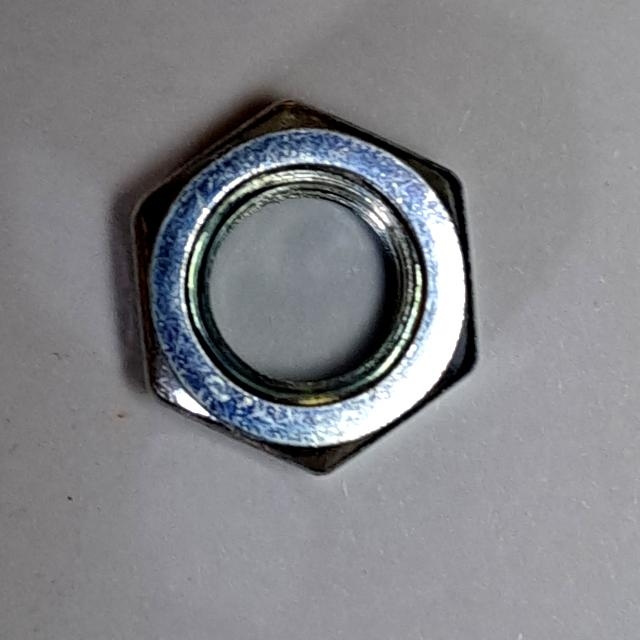Excellent: (111, 79, 503, 489)
